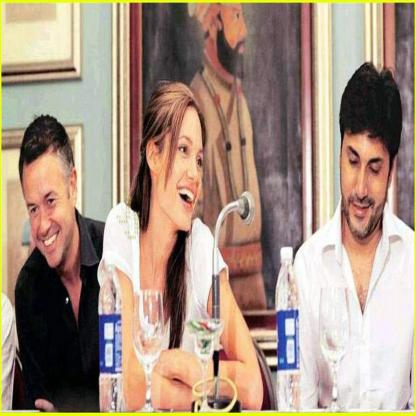face: (24, 156, 73, 269), (160, 109, 202, 232), (342, 128, 389, 237)
